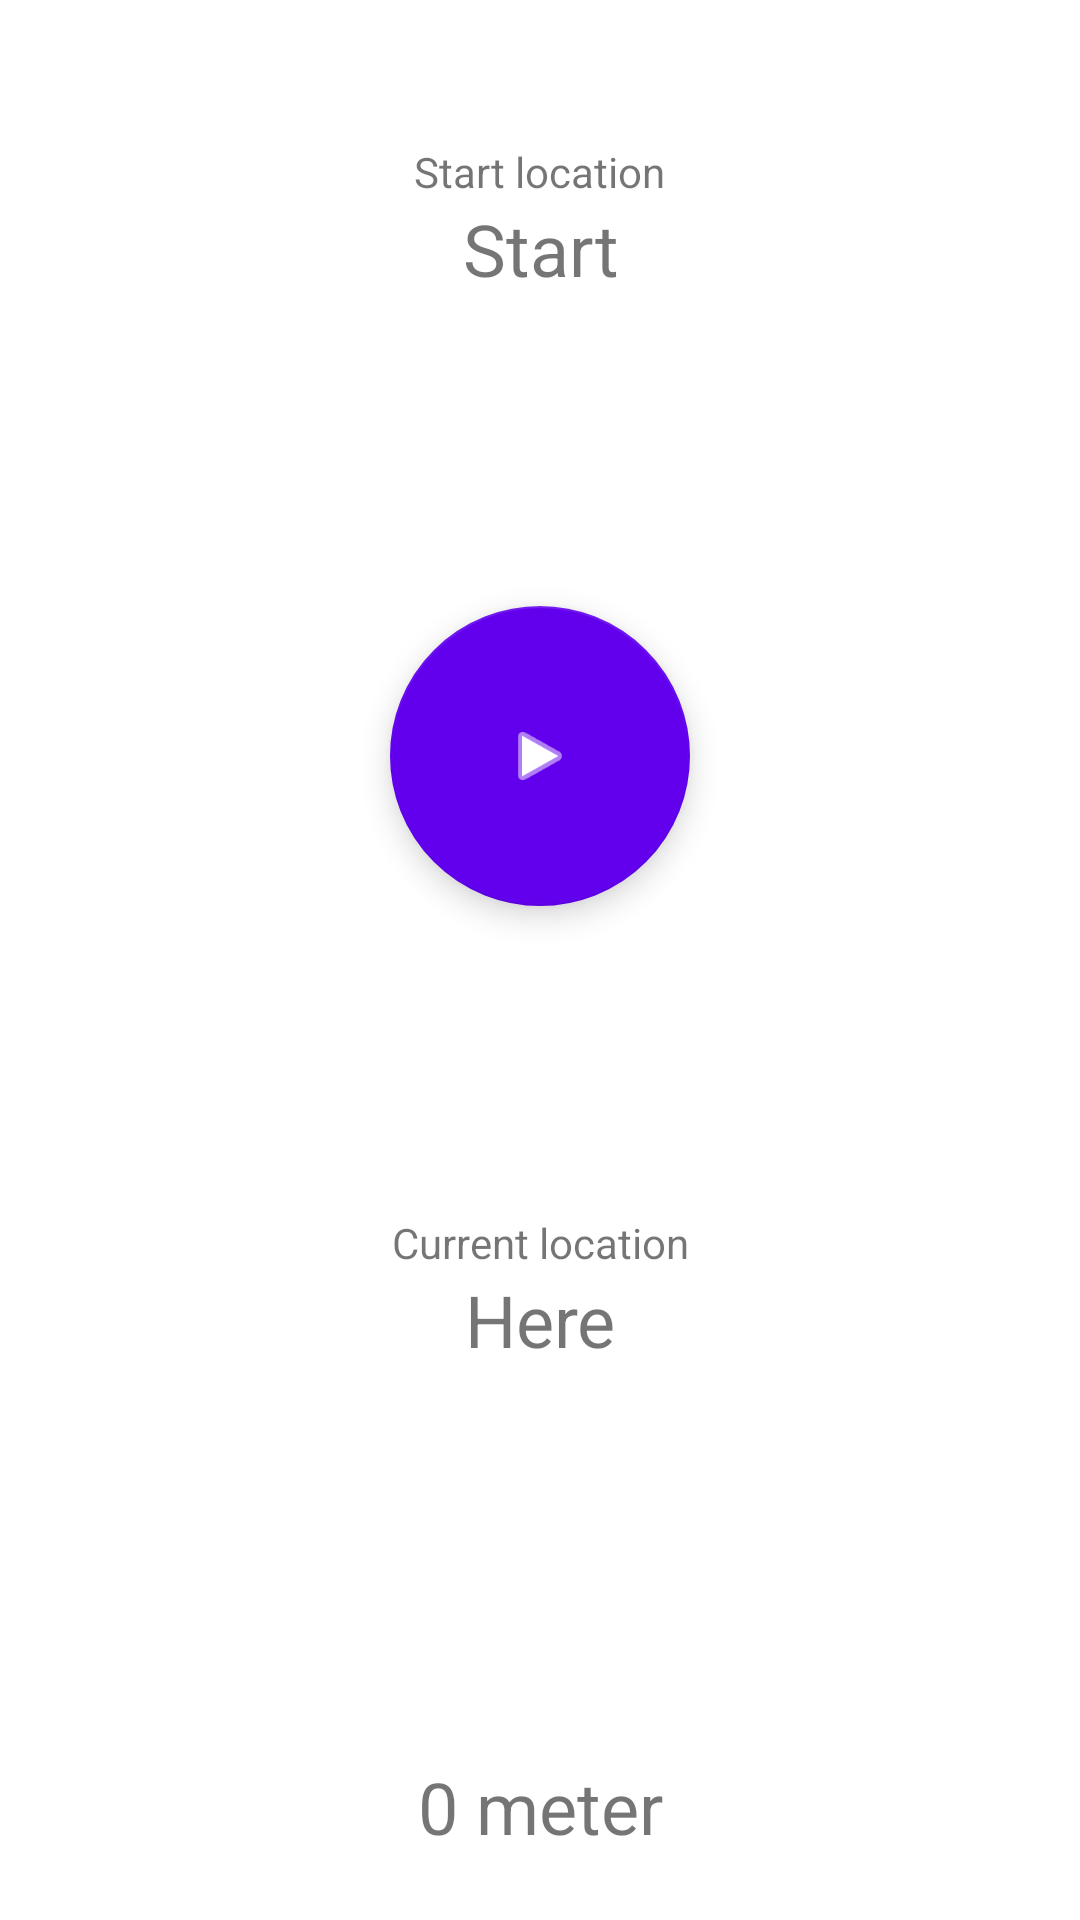

Named icons in this screenshot (1080x1920) and their bounding boxes, [x1,y1,x2,y2]:
Go: [390,606,690,906]
